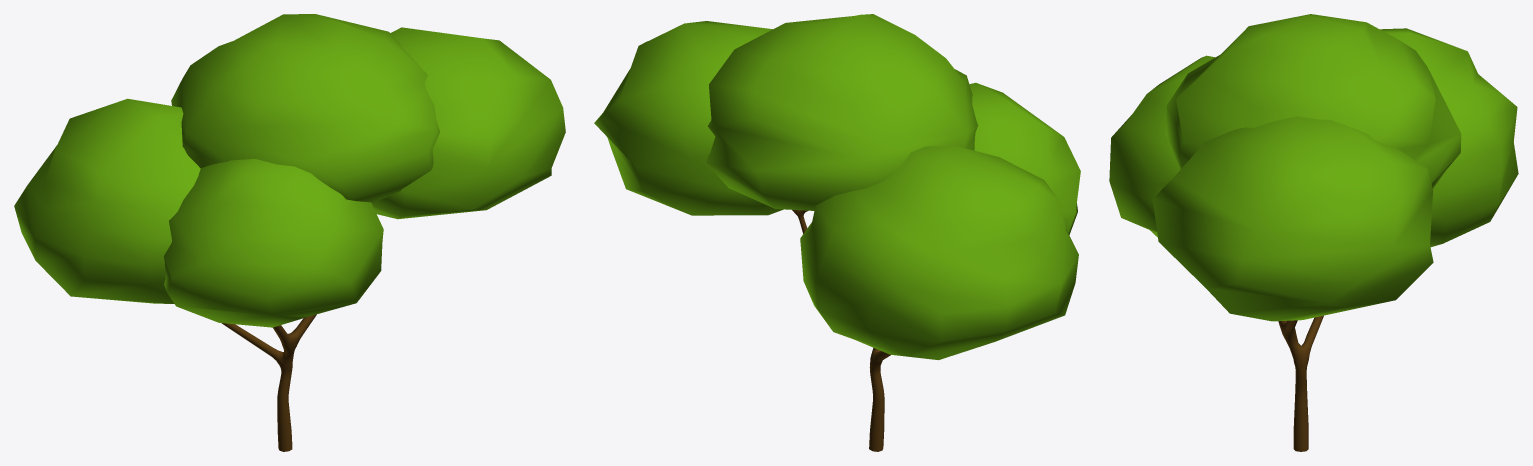
Rendered from RoundTreeMk2.fbx.
3 renders of one model, left to right at view 1: azimuth 30°, elevation 25°; view 2: azimuth 150°, elevation 25°; view 3: azimuth 270°, elevation 25°, orthographic. The views are drawn at different scales.
Parts seen in each view (by area): view 1: LeavesMK3, LeavesMK2, Leaves, LeavesMK4, Cube; view 2: Leaves, LeavesMK3, LeavesMK4, LeavesMK2, Cube; view 3: LeavesMK4, LeavesMK3, Leaves, LeavesMK2, Cube.
Boxes of the visible parts, left/top/right/bottom form: LeavesMK3: left=171, top=14, right=439, bottom=202; LeavesMK2: left=164, top=159, right=383, bottom=327; Leaves: left=14, top=98, right=200, bottom=303; LeavesMK4: left=372, top=27, right=565, bottom=219; Cube: left=221, top=314, right=316, bottom=451; Leaves: left=800, top=146, right=1078, bottom=360; LeavesMK3: left=706, top=14, right=978, bottom=210; LeavesMK4: left=594, top=21, right=783, bottom=215; LeavesMK2: left=969, top=82, right=1080, bottom=234; Cube: left=792, top=210, right=890, bottom=451; LeavesMK4: left=1152, top=116, right=1433, bottom=321; LeavesMK3: left=1165, top=14, right=1461, bottom=188; Leaves: left=1380, top=28, right=1518, bottom=246; LeavesMK2: left=1109, top=55, right=1214, bottom=237; Cube: left=1278, top=315, right=1323, bottom=451.
Size of the model in its own units: 3357 by 2783 by 2382.
